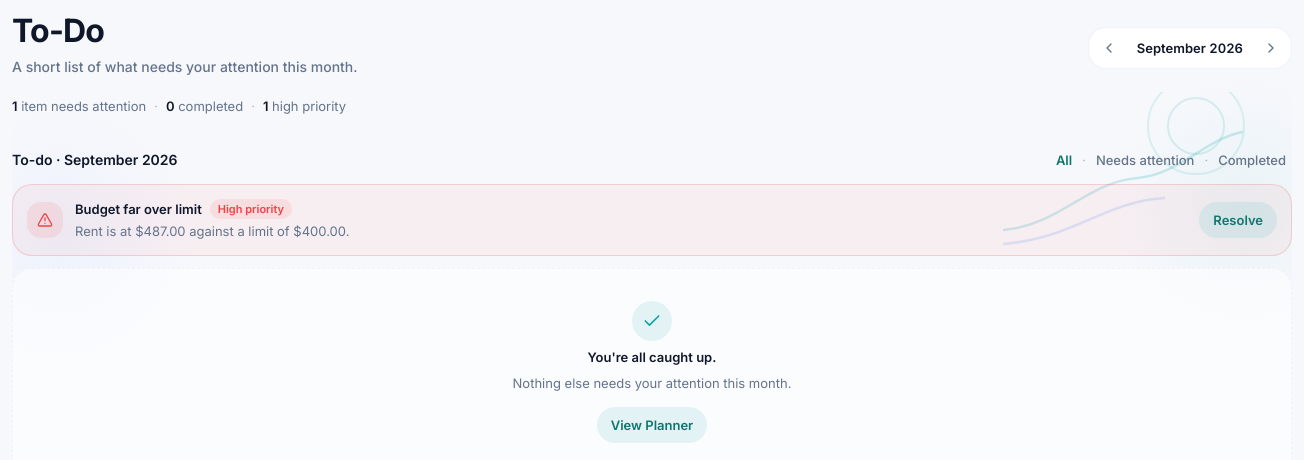
Test: TodoView › switches between All, Needs attention and Completed
Click the button "Needs attention" at (1145, 160), box [1090,148,1200,172]
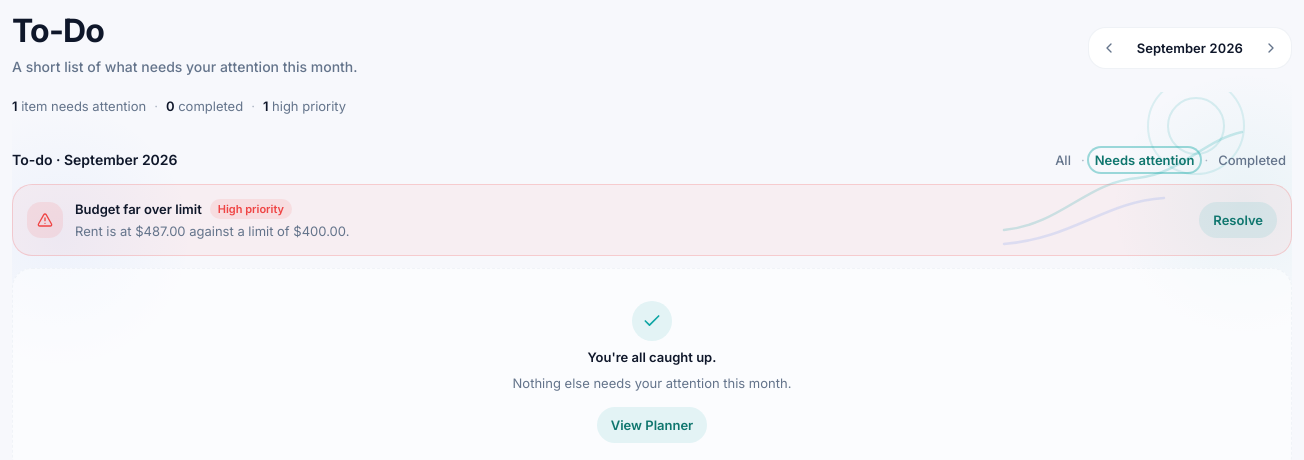
Expected: the text "Budget far over limit" is shown, [75,199,202,219]
Click the button "Completed" at (1252, 160), box [1212,148,1292,172]
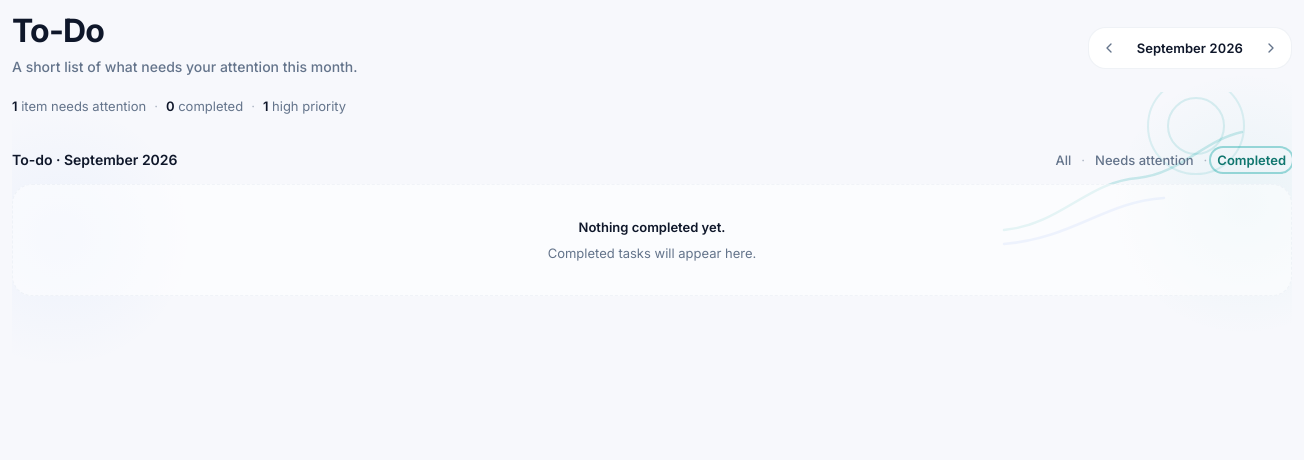
Expected: the text "Budget far over limit" is gone
Expected: the text "Nothing completed yet." is shown, [578,217,725,237]
Expected: the text "Completed tasks will appear here." is shown, [548,243,756,263]
Click the button "All" at (1063, 160), box [1050,148,1077,172]
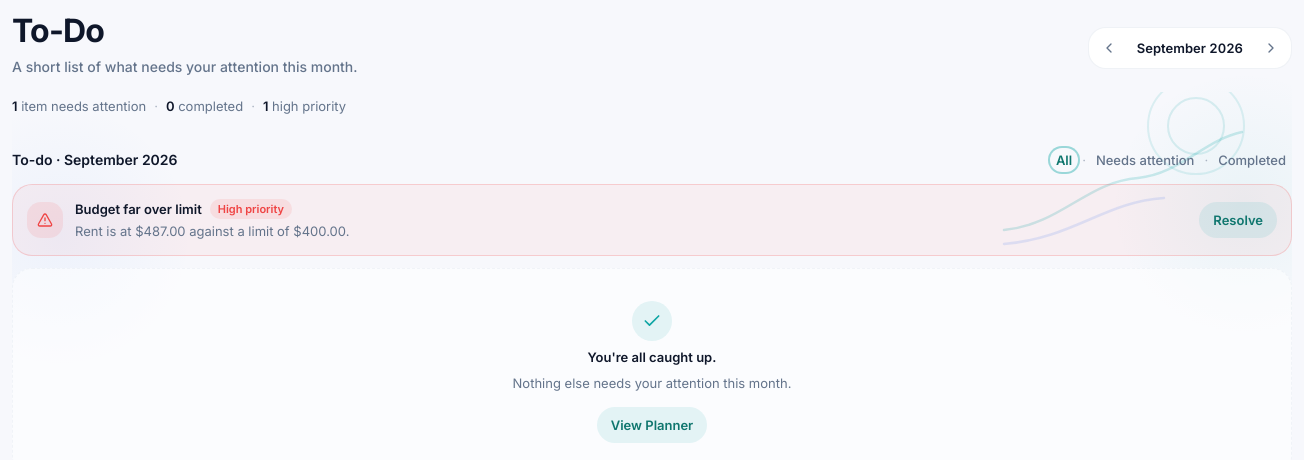
Expected: the text "Budget far over limit" is shown, [75,199,202,219]
